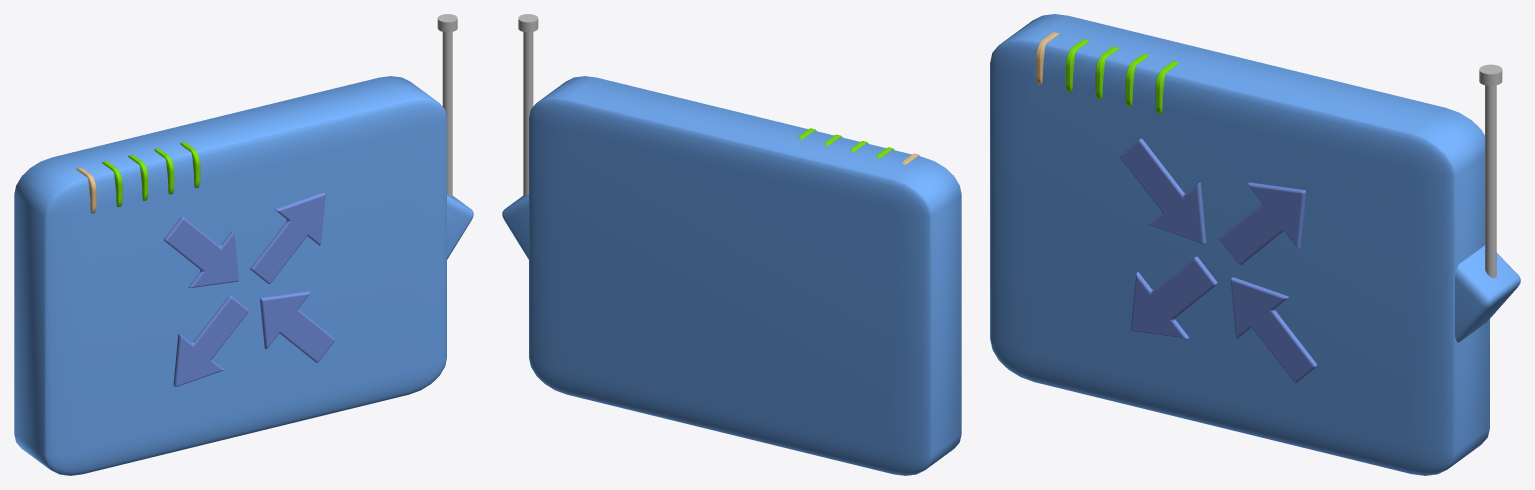
File: RouterMesh.fbx
3 views of the same model, side by side, from view 1: azimuth 30°, elevation 25°; view 2: azimuth 150°, elevation 25°; view 3: azimuth 330°, elevation 25° (orthographic). The views are drawn at different scales.
Parts seen in each view (by area): view 1: Cube, Grid.002, Grid.003, Grid, Grid.001, Cylinder, Cube.001; view 2: Cube, Cylinder, Cube.001; view 3: Cube, Grid.001, Grid, Grid.002, Grid.003, Cube.001, Cylinder.
Part boxes in pixels (x1,y1,x2,y2): Cube: [14, 76, 446, 475]; Grid.002: [250, 192, 325, 283]; Grid.003: [173, 295, 248, 386]; Grid: [260, 291, 334, 362]; Grid.001: [164, 216, 238, 288]; Cylinder: [442, 32, 452, 196]; Cube.001: [447, 194, 473, 259]; Cube: [529, 76, 961, 475]; Cylinder: [523, 32, 533, 196]; Cube.001: [502, 194, 528, 259]; Cube: [990, 14, 1489, 475]; Grid.001: [1119, 138, 1206, 244]; Grid: [1230, 277, 1317, 382]; Grid.002: [1219, 182, 1305, 265]; Grid.003: [1130, 256, 1217, 338]; Cube.001: [1455, 245, 1520, 342]; Cylinder: [1485, 85, 1496, 278].
Size of the model in its own units: 200 by 156 by 30.83.
